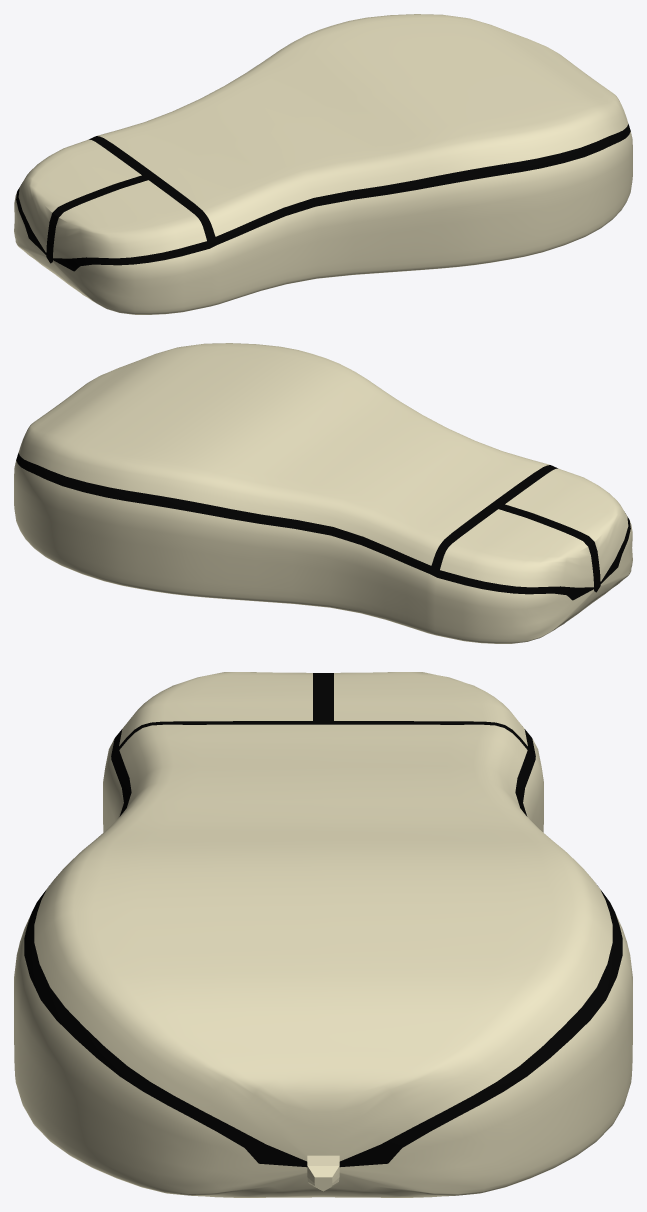
Rendered from mouse.fbx.
3 renders of one model, top to bottom at view 1: azimuth 30°, elevation 25°; view 2: azimuth 150°, elevation 25°; view 3: azimuth 270°, elevation 25°, orthographic. The views are drawn at different scales.
Parts seen in each view (by area): view 1: pCube4; view 2: pCube4; view 3: pCube4.
Part boxes in pixels (left/top/right/bottom): pCube4: left=14, top=14, right=632, bottom=314; pCube4: left=14, top=343, right=632, bottom=643; pCube4: left=14, top=672, right=632, bottom=1197.
Size of the model in its own units: 6.24 by 1.2 by 3.65.
